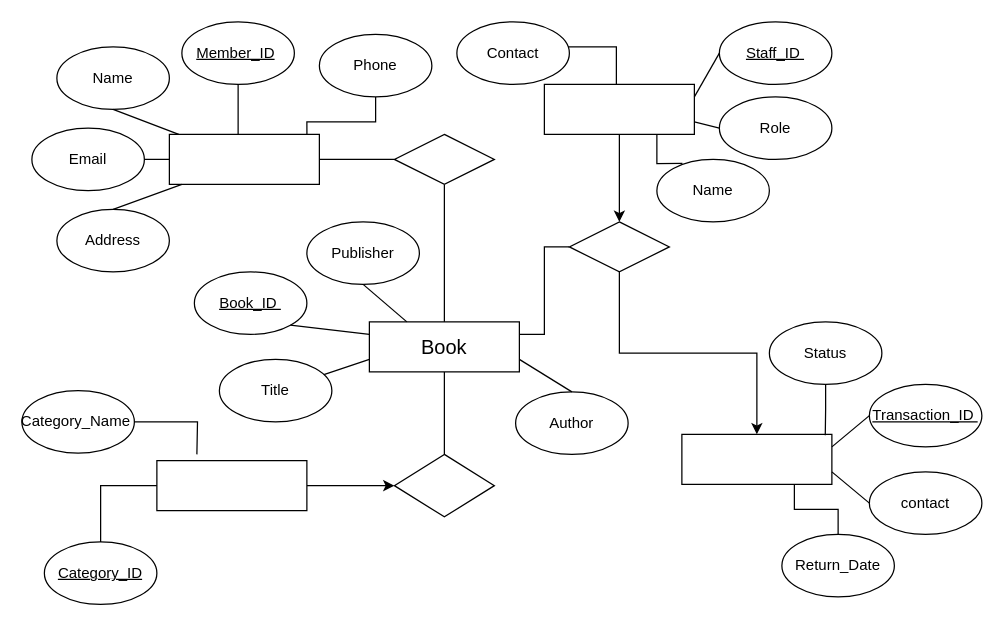
The diagram is 1004 pixels wide and 626 high, and some of its shapes have lost their labels. The centre of each missing label's shape, as x and y in pixels:
"Belongs" goes at (x=443, y=485).
"Borrows" goes at (x=443, y=158).
"Category" goes at (x=231, y=485).
"Manages" goes at (x=618, y=246).
"Member" goes at (x=243, y=158).
"Staff" goes at (x=618, y=108).
"Transaction" goes at (x=756, y=458).
